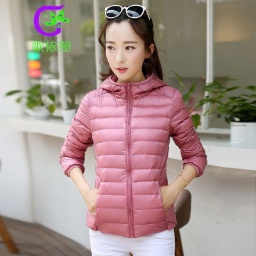face: (97, 5, 158, 80)
